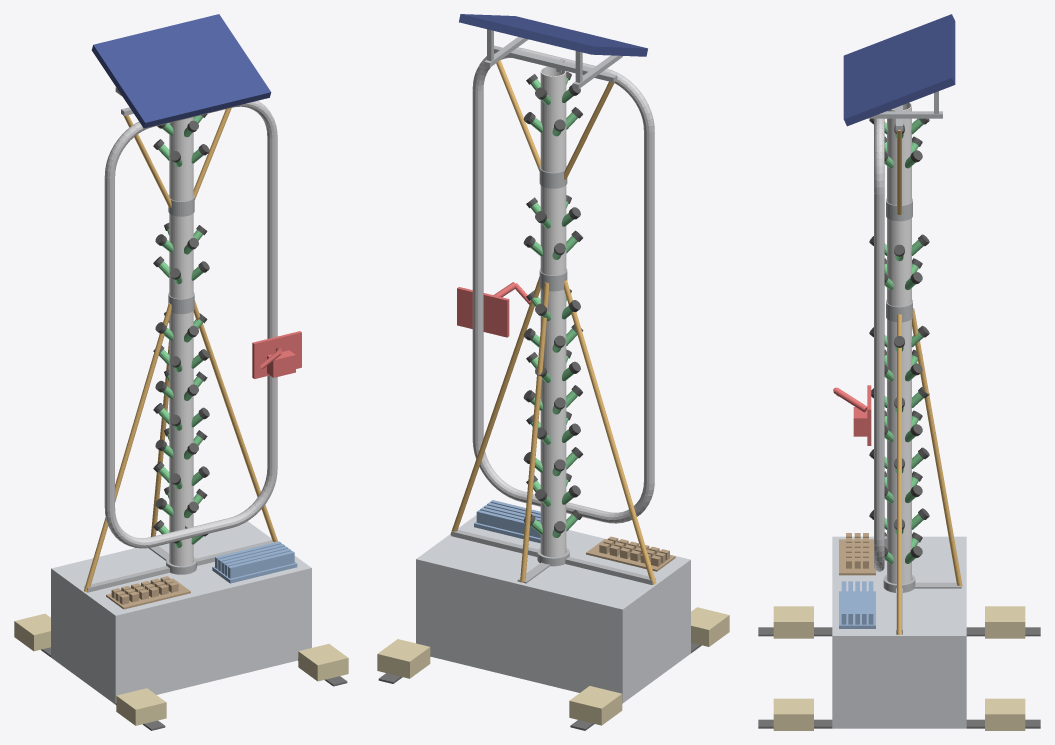
The model's file is complete-unit-v1.glb.
3 renders of one model, left to right at view 1: azimuth 30°, elevation 25°; view 2: azimuth 150°, elevation 25°; view 3: azimuth 270°, elevation 25°, orthographic. The views are drawn at different scales.
Visible parts, largest first — view 1: tank, panel, track, pipe, legs, bags, caps, pods, frame, store, cart, tray; view 2: tank, track, pipe, legs, frame, bags, caps, panel, pods, cart, store, tray; view 3: tank, panel, pipe, bags, track, legs, caps, pods, frame, store, tray, feet (+1 smaller).
Part boxes in pixels (x1,y1,x2,y2): tank: [51, 521, 311, 704]; panel: [91, 14, 271, 128]; track: [104, 101, 277, 548]; pipe: [169, 117, 193, 566]; legs: [84, 108, 277, 592]; bags: [14, 613, 348, 725]; caps: [153, 114, 209, 543]; pods: [158, 115, 203, 547]; frame: [84, 87, 277, 592]; store: [212, 541, 297, 583]; cart: [252, 331, 301, 378]; tray: [106, 576, 190, 609]; tank: [416, 515, 690, 702]; track: [472, 47, 654, 523]; pipe: [540, 66, 566, 557]; legs: [450, 53, 656, 584]; frame: [451, 29, 655, 584]; bags: [377, 607, 729, 725]; caps: [523, 71, 583, 533]; panel: [459, 14, 647, 56]; pods: [530, 77, 577, 537]; cart: [457, 282, 530, 337]; store: [474, 500, 540, 543]; tray: [586, 536, 675, 571]; tank: [832, 536, 966, 728]; panel: [843, 14, 955, 126]; pipe: [887, 102, 911, 583]; bags: [773, 606, 1025, 730]; track: [874, 118, 884, 571]; legs: [897, 130, 962, 634]; caps: [869, 118, 929, 557]; pods: [884, 118, 923, 563]; frame: [868, 91, 961, 634]; store: [839, 581, 875, 628]; tray: [839, 533, 875, 575]; feet: [758, 627, 1040, 728].
Size of the model in its own units: 760 by 2080 by 840.
